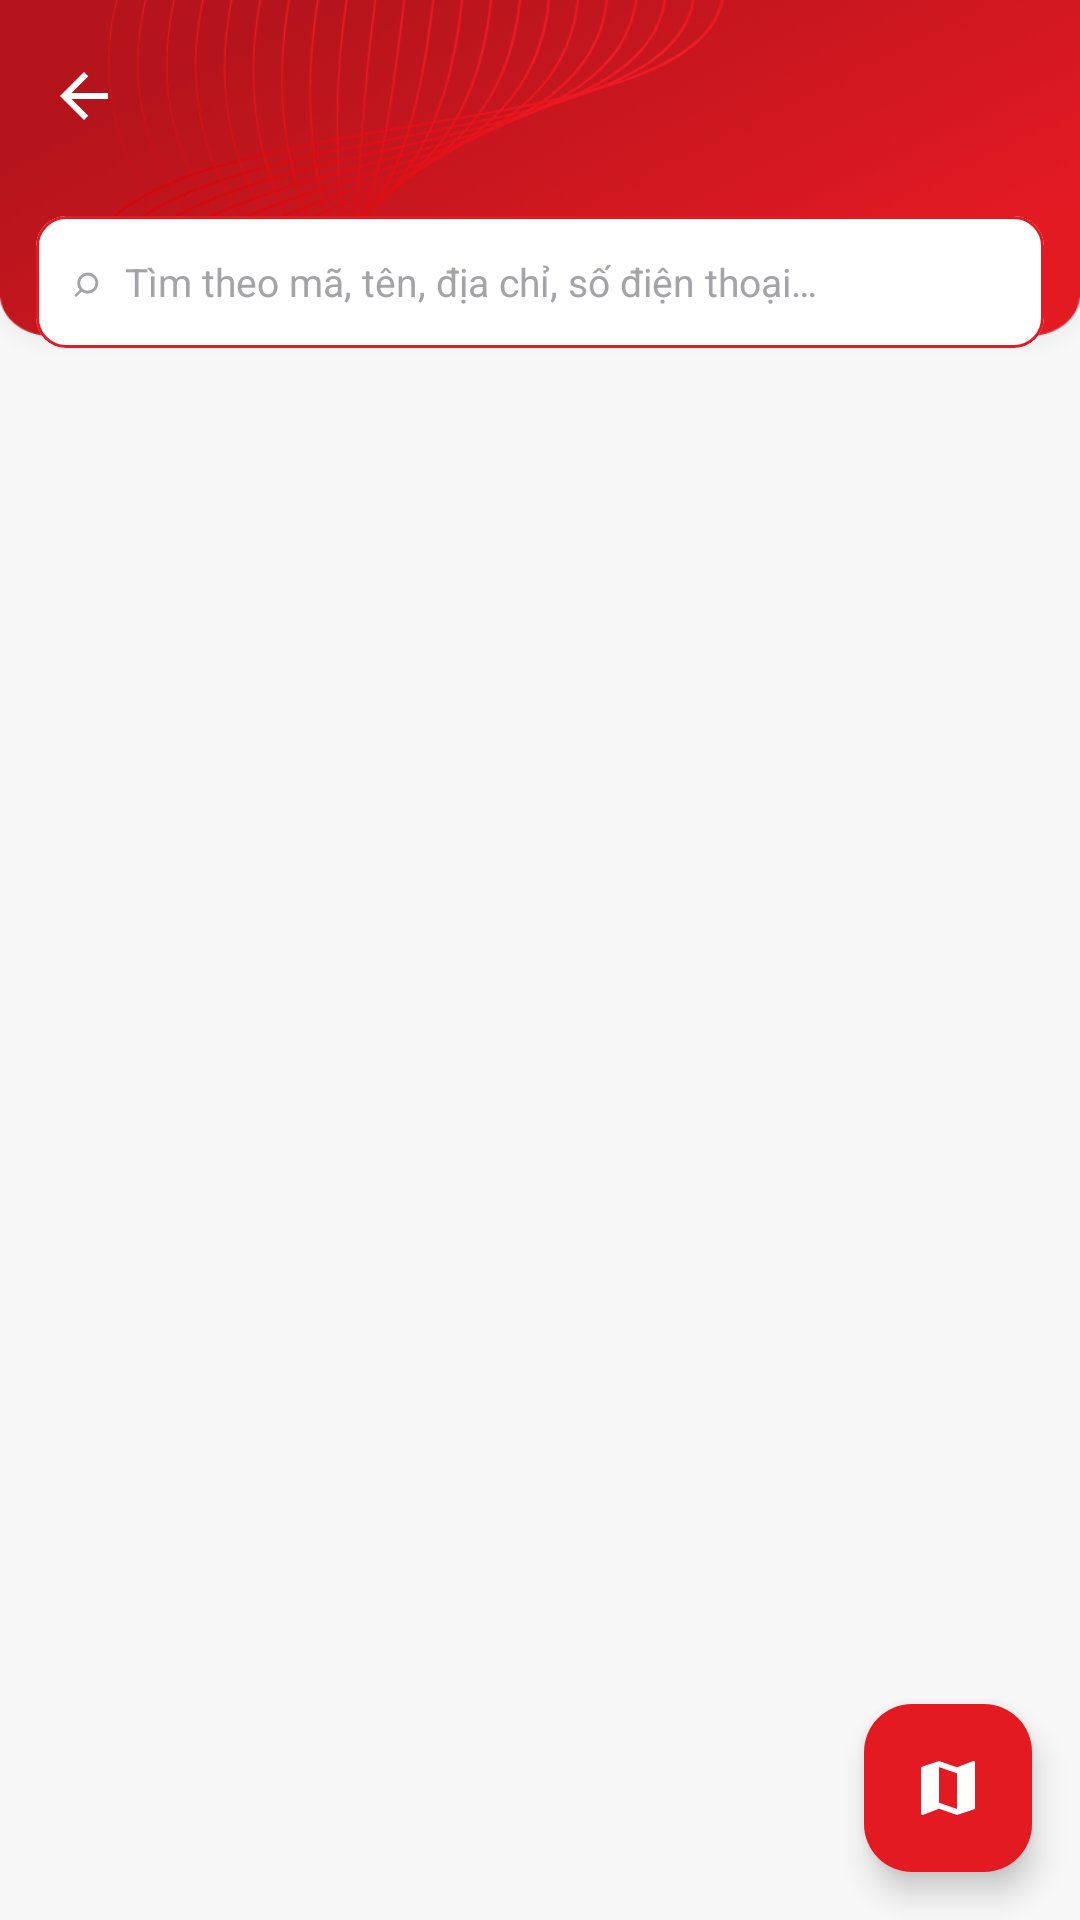

Named icons in this screenshot (1080w x 1920h) and their centers, point (x, y):
Xem bản đồ tuyến: point (948, 1788)
